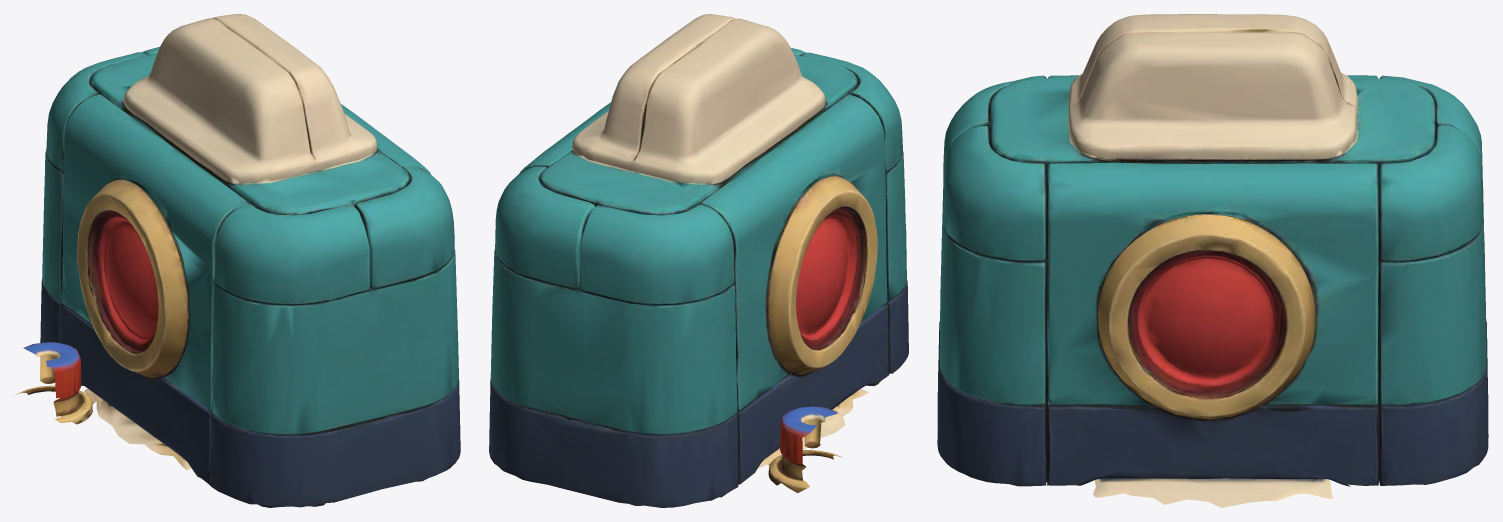
File: laser.glb
The picture shows the model from 3 angles, left to right: view 1: azimuth 30°, elevation 25°; view 2: azimuth 150°, elevation 25°; view 3: azimuth 270°, elevation 25°; orthographic projection. The views are drawn at different scales.
Parts seen in each view (by area): view 1: tripo_node_d4547c7c-59f3-4df6-913c-b6928aff3b49; view 2: tripo_node_d4547c7c-59f3-4df6-913c-b6928aff3b49; view 3: tripo_node_d4547c7c-59f3-4df6-913c-b6928aff3b49.
Part boxes in pixels (bbox=[...]): tripo_node_d4547c7c-59f3-4df6-913c-b6928aff3b49: bbox=[16, 14, 460, 507]; tripo_node_d4547c7c-59f3-4df6-913c-b6928aff3b49: bbox=[489, 14, 908, 507]; tripo_node_d4547c7c-59f3-4df6-913c-b6928aff3b49: bbox=[937, 14, 1488, 507].
Bounding box in the file's own units: 0.6361 × 0.6698 × 0.8368.
Materials: 1 (1 with a texture image).
